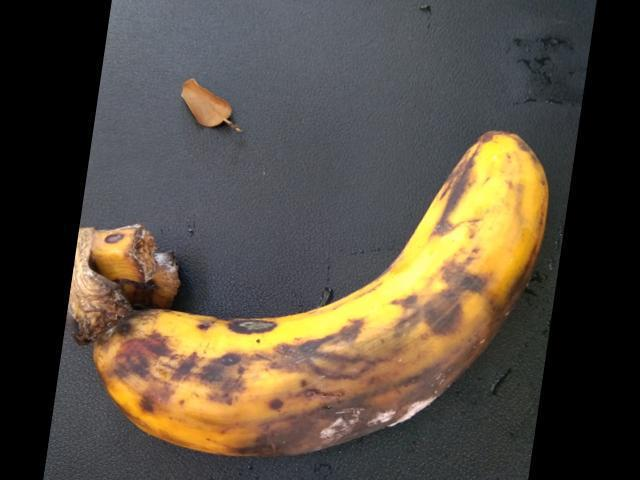overripe: (96, 107, 550, 466)
rotten: (241, 290, 529, 479)
